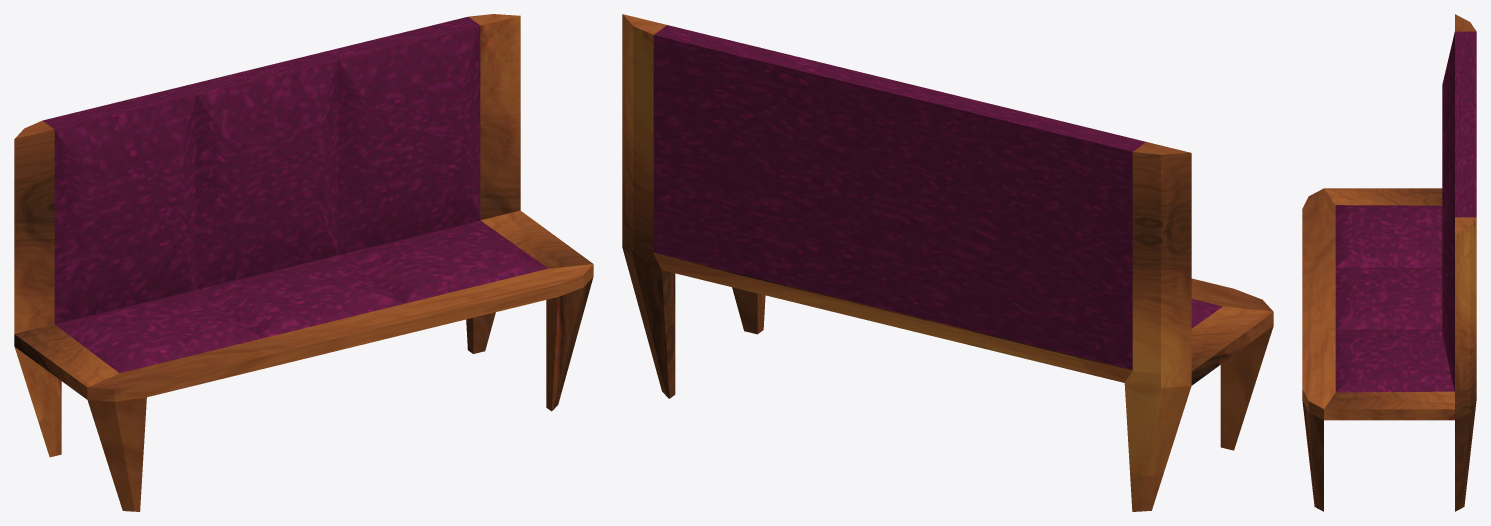
File: PurpleBench2.fbx
The picture shows the model from 3 angles, left to right: view 1: azimuth 30°, elevation 25°; view 2: azimuth 150°, elevation 25°; view 3: azimuth 270°, elevation 25°; orthographic projection. The views are drawn at different scales.
Parts seen in each view (by area): view 1: SceneWithStuff9:SceneWithStuff3:pCube7; view 2: SceneWithStuff9:SceneWithStuff3:pCube7; view 3: SceneWithStuff9:SceneWithStuff3:pCube7.
Boxes of the visible parts, left/top/right/bottom form: SceneWithStuff9:SceneWithStuff3:pCube7: left=14, top=14, right=593, bottom=511; SceneWithStuff9:SceneWithStuff3:pCube7: left=622, top=14, right=1273, bottom=511; SceneWithStuff9:SceneWithStuff3:pCube7: left=1302, top=14, right=1476, bottom=511.
Size of the model in its own units: 1.92 by 1.18 by 0.6398.
Materials: 1 (1 with a texture image).
